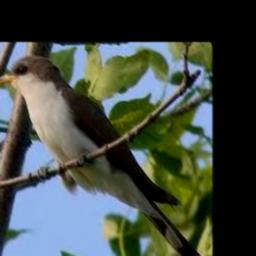Cuckoo: (0, 56, 213, 256)
